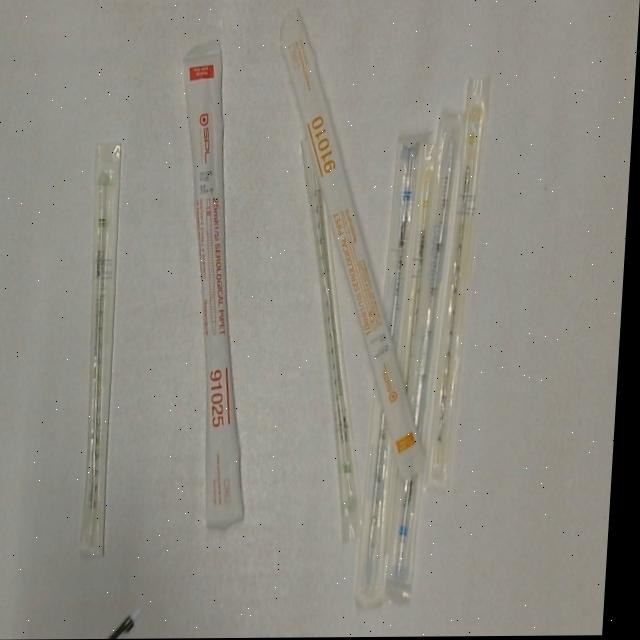Serelogical Pipet 1 mL: (432, 75, 498, 490), (396, 144, 444, 397)
Serelogical Pipet 10 mL: (257, 6, 456, 485)
Serelogical Pipet 2 mL: (281, 136, 389, 549), (75, 137, 138, 570)
Serelogical Pipet 25 mL: (161, 38, 274, 534)
Serelogical Pipet 5 mL: (394, 112, 469, 592), (362, 133, 431, 605)
